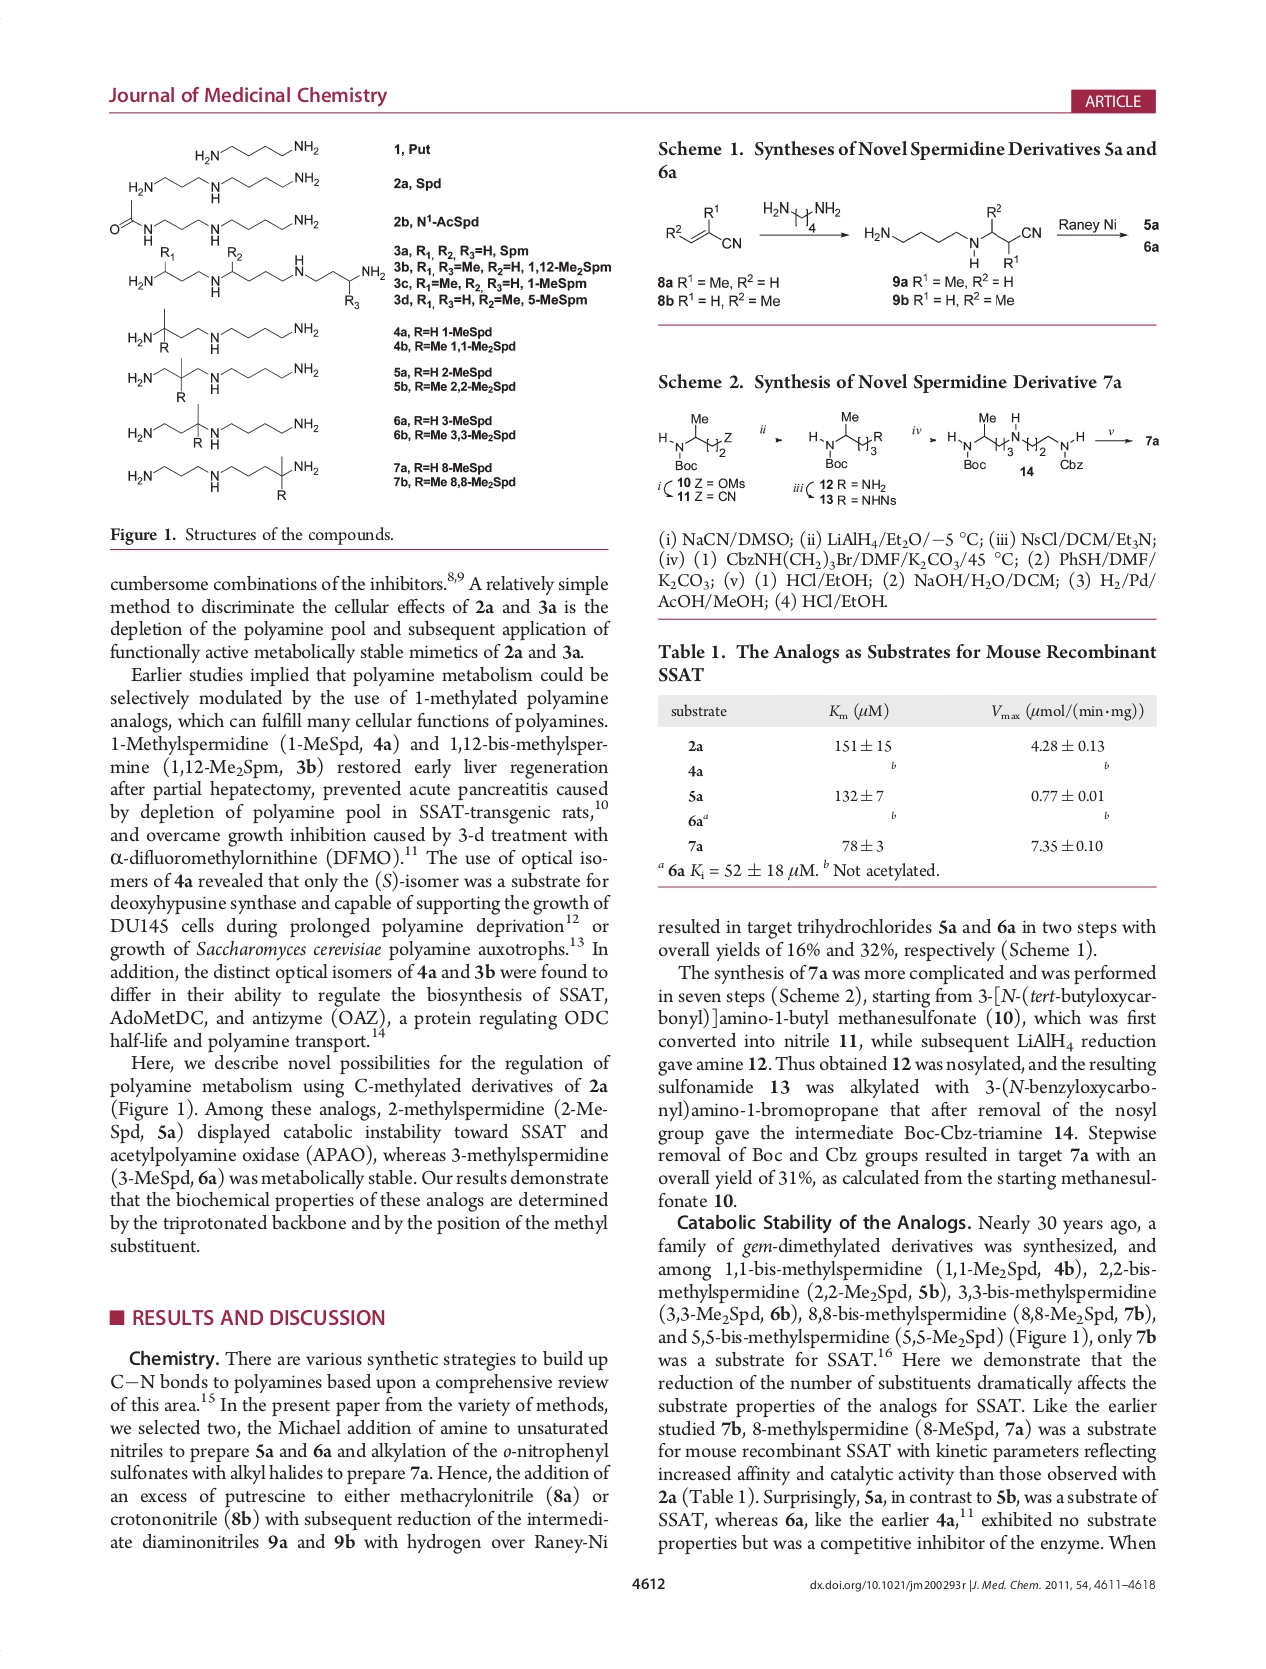exist_molecular: (125, 247, 388, 310), (860, 201, 1047, 270), (122, 452, 320, 504), (108, 198, 320, 246), (124, 402, 320, 452), (126, 306, 320, 356), (124, 356, 320, 404), (944, 410, 1090, 473), (122, 172, 320, 203), (654, 410, 735, 472), (806, 408, 886, 469), (660, 201, 747, 255), (190, 138, 320, 166), (761, 195, 840, 233)
